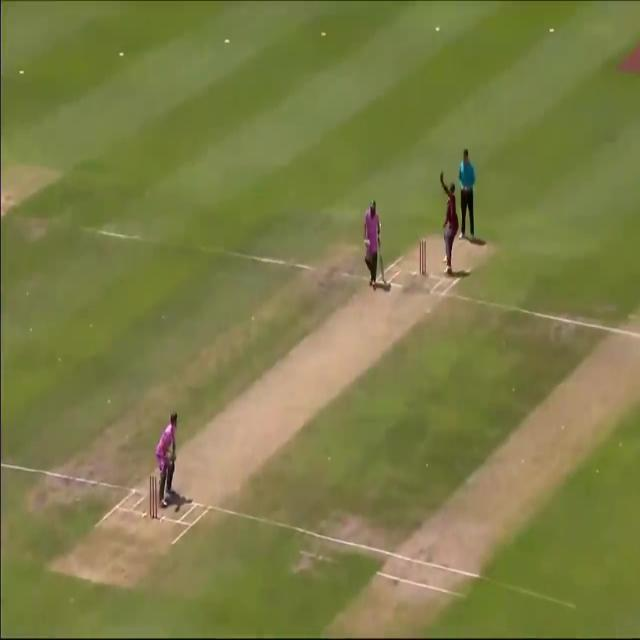Ball: (146, 406, 191, 515), (355, 196, 392, 289)
Umpire: (456, 144, 477, 258)
